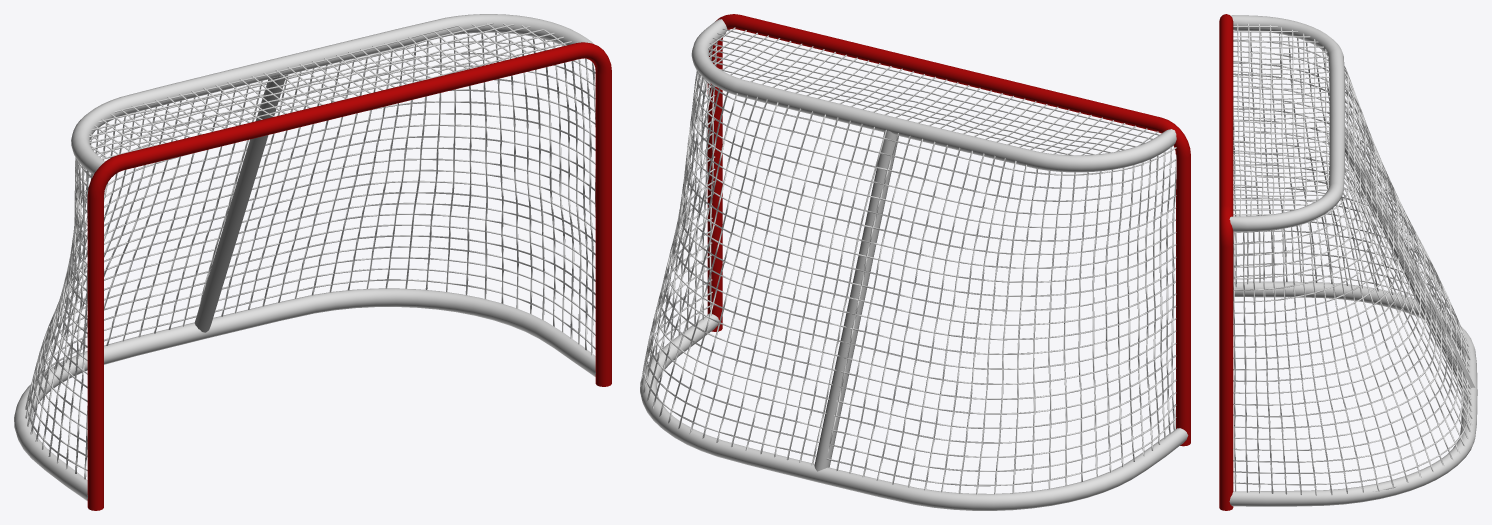
Rendered from untitled-scene-goal.fbx.
3 renders of one model, left to right at view 1: azimuth 30°, elevation 25°; view 2: azimuth 150°, elevation 25°; view 3: azimuth 270°, elevation 25°, orthographic. The views are drawn at different scales.
Parts seen in each view (by area): view 1: Shape002, Rectangle004, Rectangle003, Rectangle002, Line001; view 2: Shape002, Rectangle004, Rectangle003, Rectangle002, Line001; view 3: Shape002, Rectangle003, Rectangle004, Rectangle002, Line001.
Part boxes in pixels (bbox=[...]): Shape002: bbox=[25, 22, 595, 479]; Rectangle004: bbox=[87, 42, 611, 510]; Rectangle003: bbox=[14, 288, 595, 500]; Rectangle002: bbox=[71, 14, 593, 174]; Line001: bbox=[194, 74, 286, 332]; Shape002: bbox=[641, 27, 1176, 494]; Rectangle004: bbox=[707, 14, 1190, 446]; Rectangle003: bbox=[640, 313, 1188, 510]; Rectangle002: bbox=[691, 19, 1176, 172]; Line001: bbox=[814, 130, 898, 471]; Shape002: bbox=[1233, 23, 1472, 495]; Rectangle003: bbox=[1229, 281, 1477, 506]; Rectangle004: bbox=[1219, 14, 1233, 510]; Rectangle002: bbox=[1229, 15, 1344, 231]; Line001: bbox=[1345, 125, 1475, 388].
Size of the model in its own units: 1.94 by 1.22 by 0.9789.
